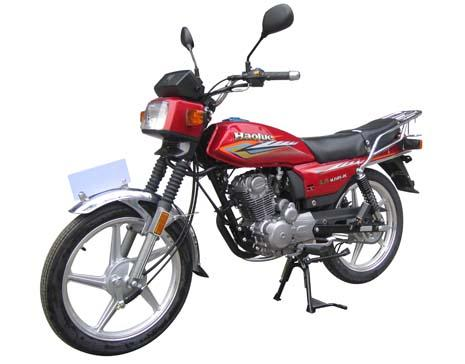motor: (35, 36, 418, 334)
